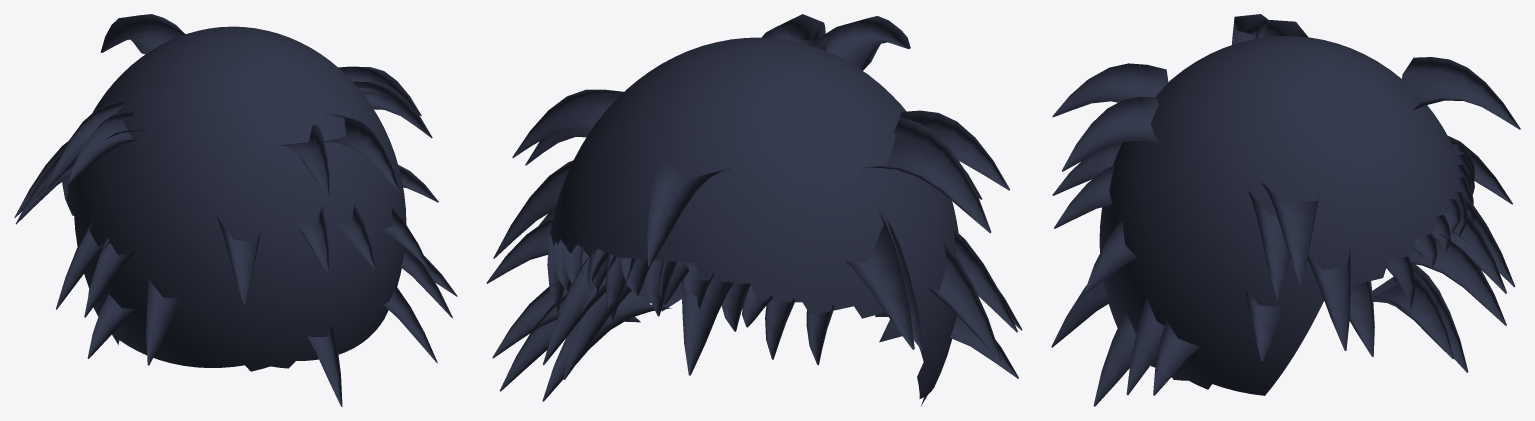
File: anime_hair_pip.glb
The picture shows the model from 3 angles, left to right: view 1: azimuth 30°, elevation 25°; view 2: azimuth 150°, elevation 25°; view 3: azimuth 270°, elevation 25°; orthographic projection. The views are drawn at different scales.
Visible parts, largest first — view 1: hair_cap, hair; view 2: hair_cap, hair; view 3: hair_cap, hair.
Boxes of the visible parts, x1,y1,x2,y2 form: hair_cap: (67, 26, 406, 371); hair: (14, 14, 457, 406); hair_cap: (550, 37, 958, 405); hair: (486, 14, 1022, 401); hair_cap: (1099, 36, 1459, 395); hair: (1051, 14, 1520, 406).
Bounding box in the file's own units: 0.3722 × 0.2615 × 0.371.
